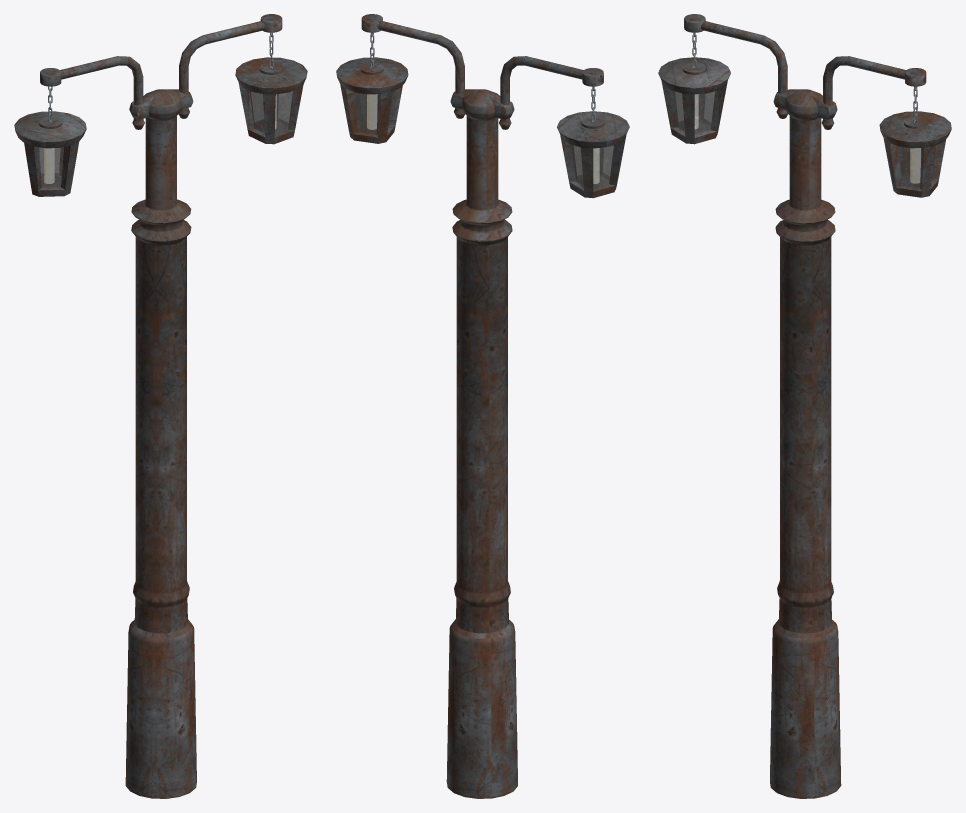
File: streetlight.glb
The picture shows the model from 3 angles, left to right: view 1: azimuth 30°, elevation 25°; view 2: azimuth 150°, elevation 25°; view 3: azimuth 330°, elevation 25°; orthographic projection.
Parts seen in each view (by area): view 1: Lamp, LampTopPoles, LampWindows; view 2: Lamp, LampTopPoles, LampWindows, LampLight; view 3: Lamp, LampTopPoles, LampWindows.
Part boxes in pixels (x1=…): Lamp: x1=14, y1=14, x2=307, y2=798; LampTopPoles: x1=60, y1=21, x2=265, y2=105; LampWindows: x1=39, y1=91, x2=292, y2=187; Lamp: x1=336, y1=14, x2=629, y2=798; LampTopPoles: x1=378, y1=21, x2=583, y2=105; LampWindows: x1=354, y1=92, x2=613, y2=188; LampLight: x1=367, y1=94, x2=599, y2=183; Lamp: x1=658, y1=14, x2=951, y2=798; LampTopPoles: x1=701, y1=21, x2=905, y2=105; LampWindows: x1=673, y1=91, x2=936, y2=188.
Size of the model in its own units: 1.12 by 2.79 by 0.2497.
Materials: 4 (4 with a texture image).
